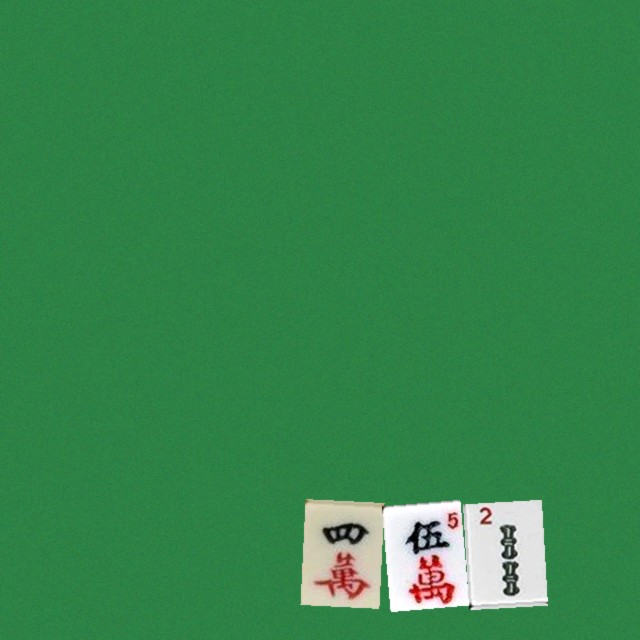tile: (300, 499, 379, 605), (381, 499, 460, 605), (462, 499, 541, 605)
